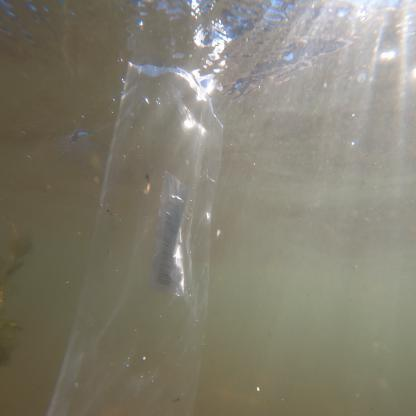Rác: (38, 57, 259, 415)
